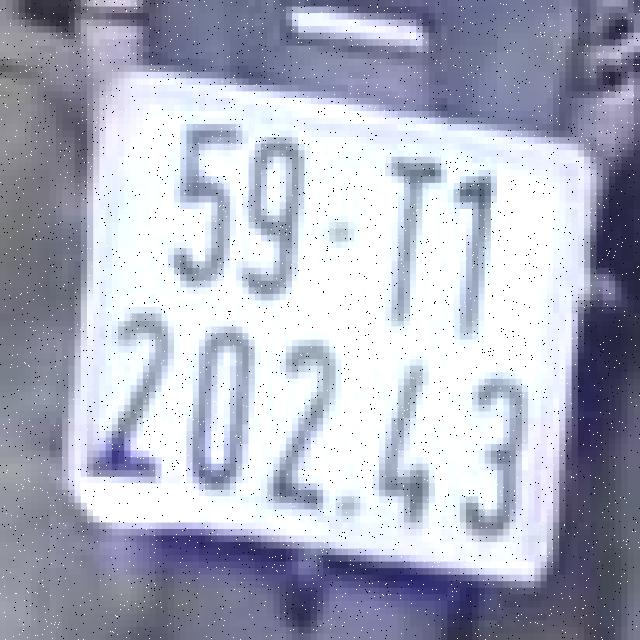0: (180, 320, 261, 503)
1: (450, 166, 512, 356)
2: (96, 304, 171, 493), (276, 327, 345, 522)
3: (463, 372, 537, 549)
4: (364, 346, 444, 529)
5: (158, 104, 240, 294)
9: (242, 127, 317, 304)
T: (373, 150, 441, 320)
